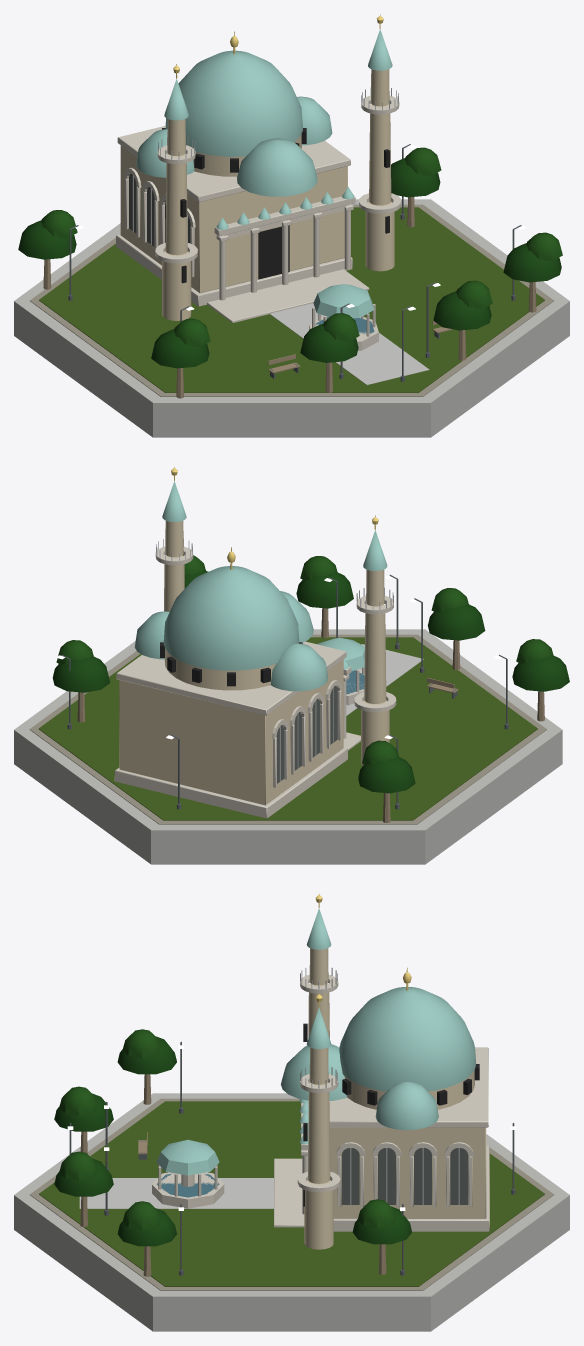
Rendered from worship_mosque.glb.
3 renders of one model, top to bottom at view 1: azimuth 30°, elevation 25°; view 2: azimuth 150°, elevation 25°; view 3: azimuth 270°, elevation 25°, orthographic.
Visible parts, largest first — view 1: turf, wall_concrete, plaster, copper, stone, leaf, pavers, dark, wood, glass, steel_dark; view 2: wall_concrete, turf, plaster, copper, stone, leaf, pavers, glass, wood, steel_dark, dark; view 3: turf, wall_concrete, copper, plaster, stone, leaf, pavers, glass, wood, steel_dark, dark.
Boxes of the visible parts, x1,y1,x2,y2 form: turf: [39, 207, 544, 392]; wall_concrete: [14, 175, 569, 437]; plaster: [120, 69, 394, 320]; copper: [136, 29, 392, 318]; stone: [116, 95, 401, 350]; leaf: [18, 147, 562, 368]; pavers: [29, 204, 554, 396]; dark: [162, 128, 389, 283]; wood: [43, 197, 536, 398]; glass: [129, 173, 374, 333]; steel_dark: [68, 144, 521, 381]; wall_concrete: [14, 629, 562, 864]; turf: [38, 637, 537, 820]; plaster: [119, 521, 389, 805]; copper: [134, 481, 387, 691]; stone: [114, 546, 396, 818]; leaf: [52, 554, 569, 793]; pavers: [29, 634, 546, 824]; glass: [276, 670, 364, 783]; wood: [77, 608, 544, 822]; steel_dark: [61, 574, 508, 809]; dark: [160, 642, 302, 686]; turf: [39, 1101, 544, 1286]; wall_concrete: [14, 1093, 569, 1331]; copper: [156, 908, 476, 1175]; plaster: [304, 948, 486, 1249]; stone: [152, 974, 489, 1231]; leaf: [54, 1029, 411, 1246]; pavers: [29, 1098, 554, 1290]; glass: [156, 1148, 468, 1204]; wood: [80, 1074, 386, 1276]; steel_dark: [69, 1041, 515, 1275]; dark: [303, 1023, 479, 1206].
Bounding box in the file's own units: 21.31 × 14 × 24.6.
